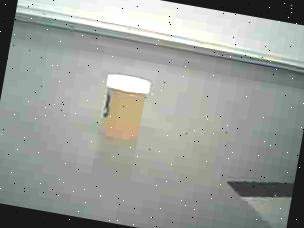Bottle B: (90, 64, 158, 152)
